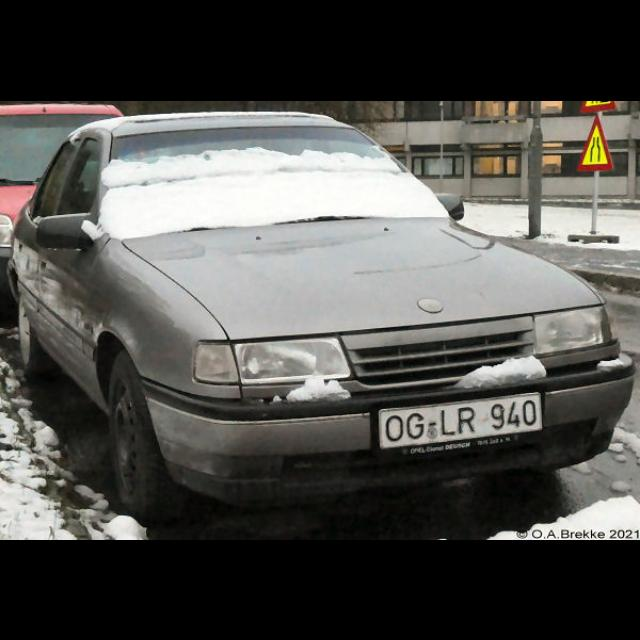d_license_plate: (378, 390, 540, 446)
